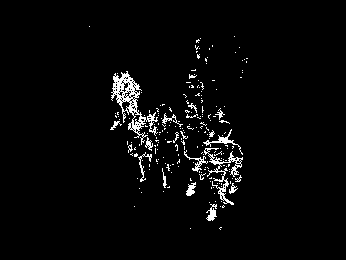person: (193, 119, 243, 223), (152, 103, 187, 192), (127, 109, 158, 185), (117, 69, 143, 126), (109, 72, 125, 133)
